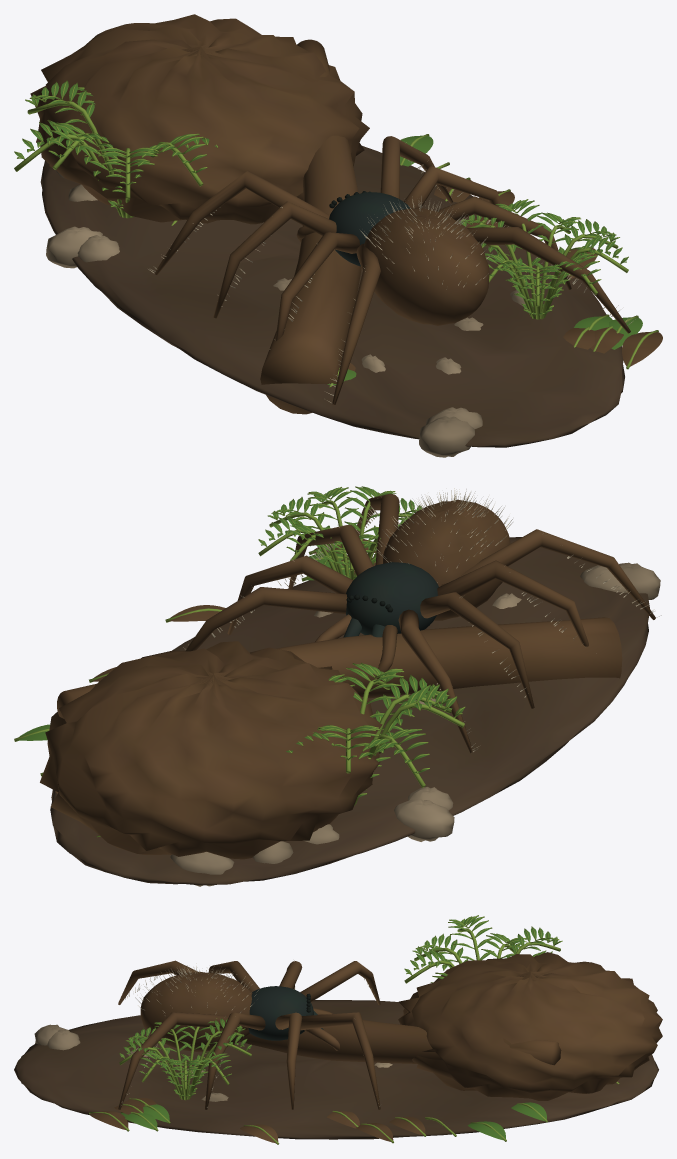
3 renders of one model, top to bottom at view 1: azimuth 30°, elevation 25°; view 2: azimuth 150°, elevation 25°; view 3: azimuth 270°, elevation 25°, orthographic. The views are drawn at different scales.
Parts seen in each view (by area): view 1: B14_SPEC_Bark_export; view 2: B14_SPEC_Bark_export; view 3: B14_SPEC_Bark_export.
Part boxes in pixels (box(x1,y1,x2,y2)): B14_SPEC_Bark_export: box(14, 14, 662, 457); B14_SPEC_Bark_export: box(14, 486, 661, 886); B14_SPEC_Bark_export: box(14, 915, 662, 1144).
Size of the model in its own units: 1.18 by 0.4379 by 2.17.
